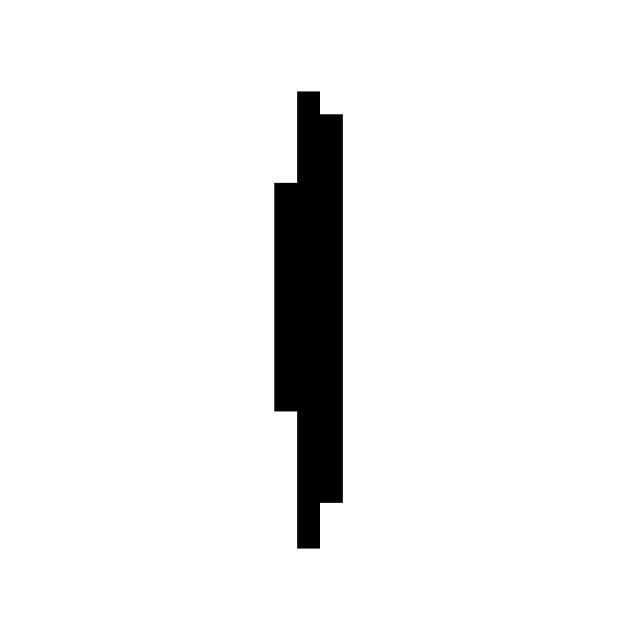1 -one-: (247, 78, 378, 573)
